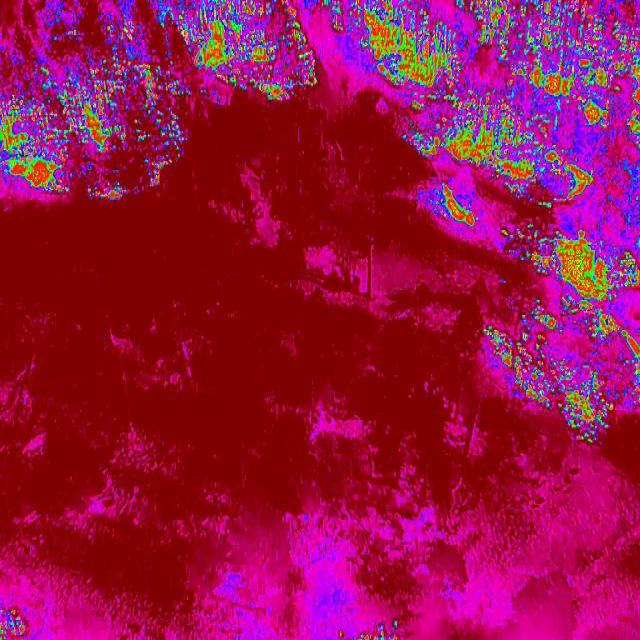fire: (329, 0, 640, 119), (0, 0, 318, 101), (408, 118, 640, 228), (466, 298, 640, 442), (0, 102, 186, 203), (510, 228, 640, 298), (337, 617, 403, 640), (0, 607, 31, 640)
